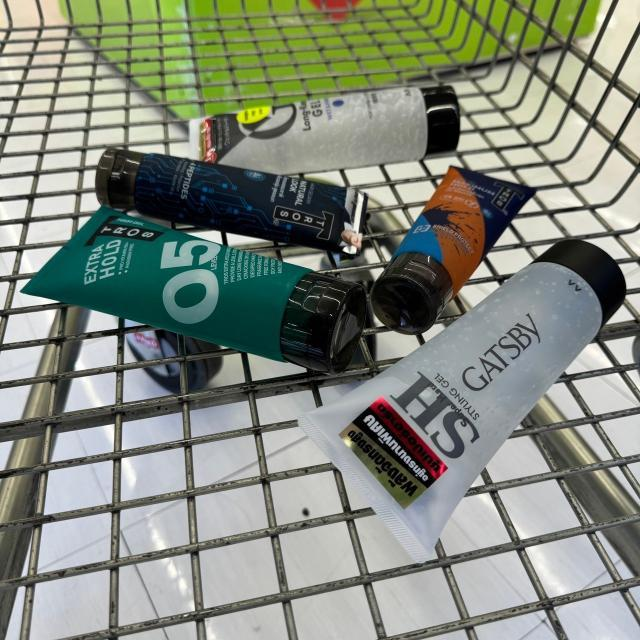Squeeze Tube: (294, 237, 629, 563), (29, 202, 370, 375), (95, 140, 365, 253), (370, 167, 533, 334), (189, 82, 464, 175)
